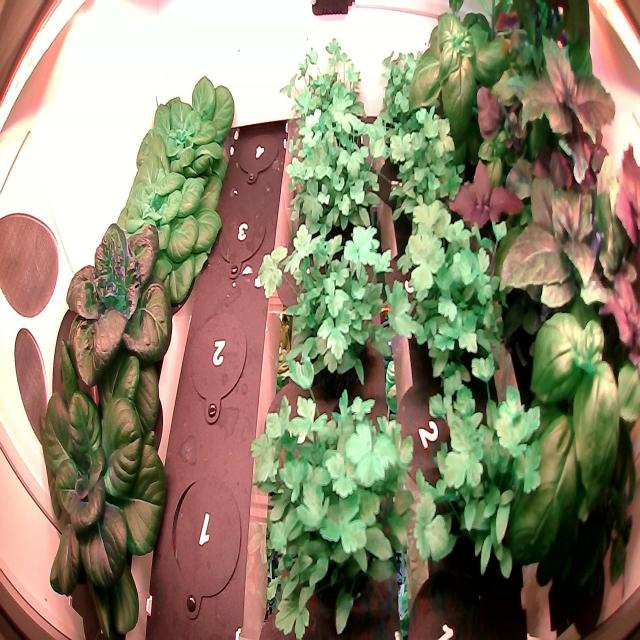empty_pod: (165, 453, 246, 615), (184, 297, 252, 436), (210, 187, 272, 281), (228, 117, 284, 183)
young: (26, 336, 172, 638), (52, 213, 182, 402), (96, 154, 226, 318), (122, 70, 242, 204)
